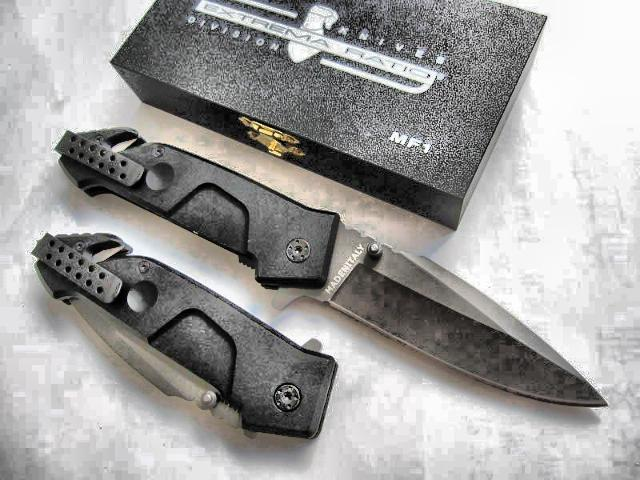knife: (300, 225, 620, 418)
